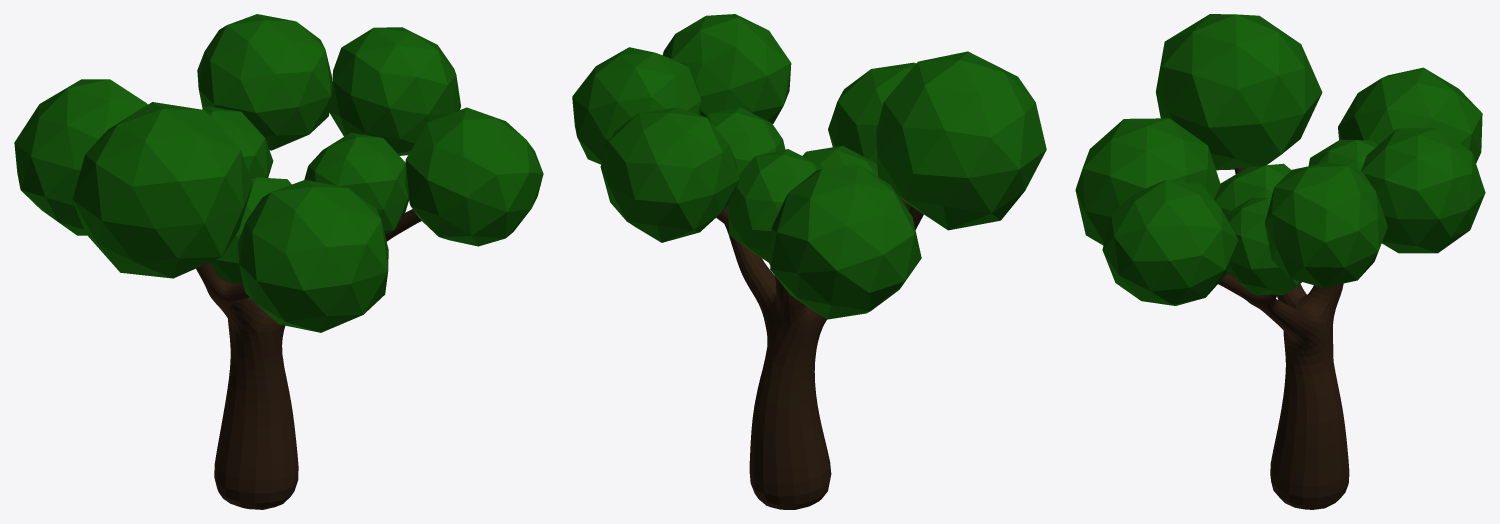
Rendered from Tree5.fbx.
3 renders of one model, left to right at view 1: azimuth 30°, elevation 25°; view 2: azimuth 150°, elevation 25°; view 3: azimuth 270°, elevation 25°, orthographic. The views are drawn at different scales.
Parts seen in each view (by area): view 1: Tree; view 2: Tree; view 3: Tree.
Boxes of the visible parts, x1,y1,x2,y2 form: Tree: (14, 14, 543, 509); Tree: (572, 14, 1046, 509); Tree: (1075, 14, 1485, 509).
Size of the model in its own units: 1372 by 1443 by 1253.
